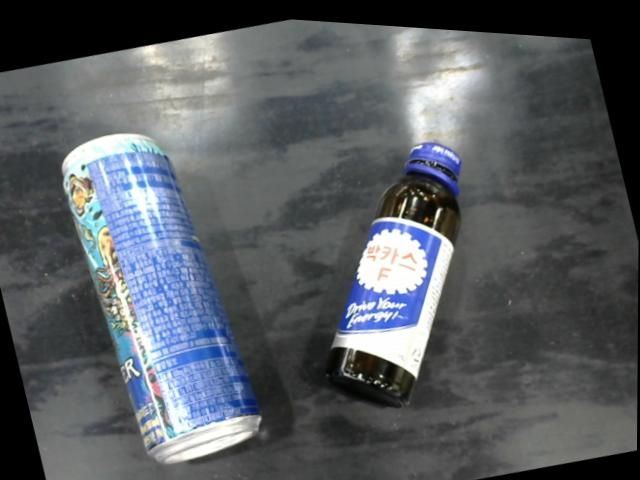trash: (53, 112, 273, 475), (324, 130, 471, 412)
